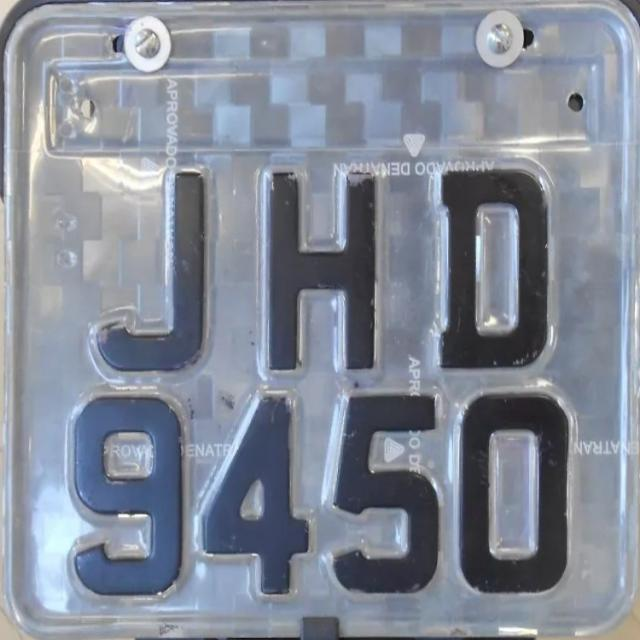Placa_mercosul_carro: (15, 10, 629, 620)
